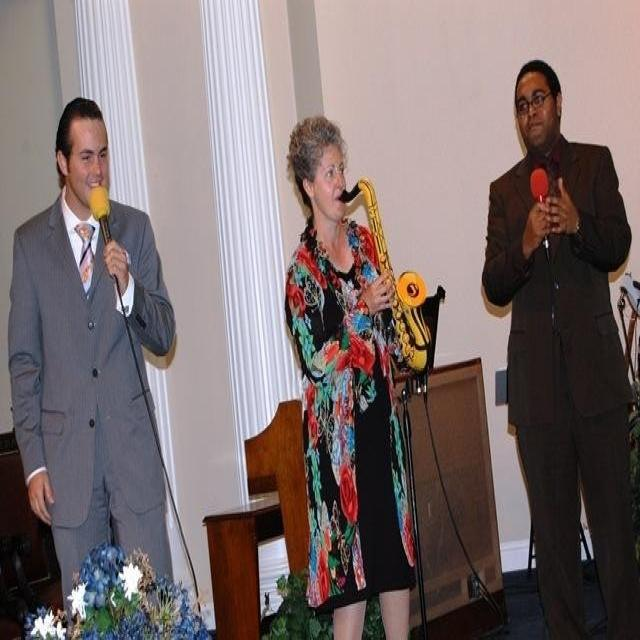saxophone: (340, 176, 434, 380)
